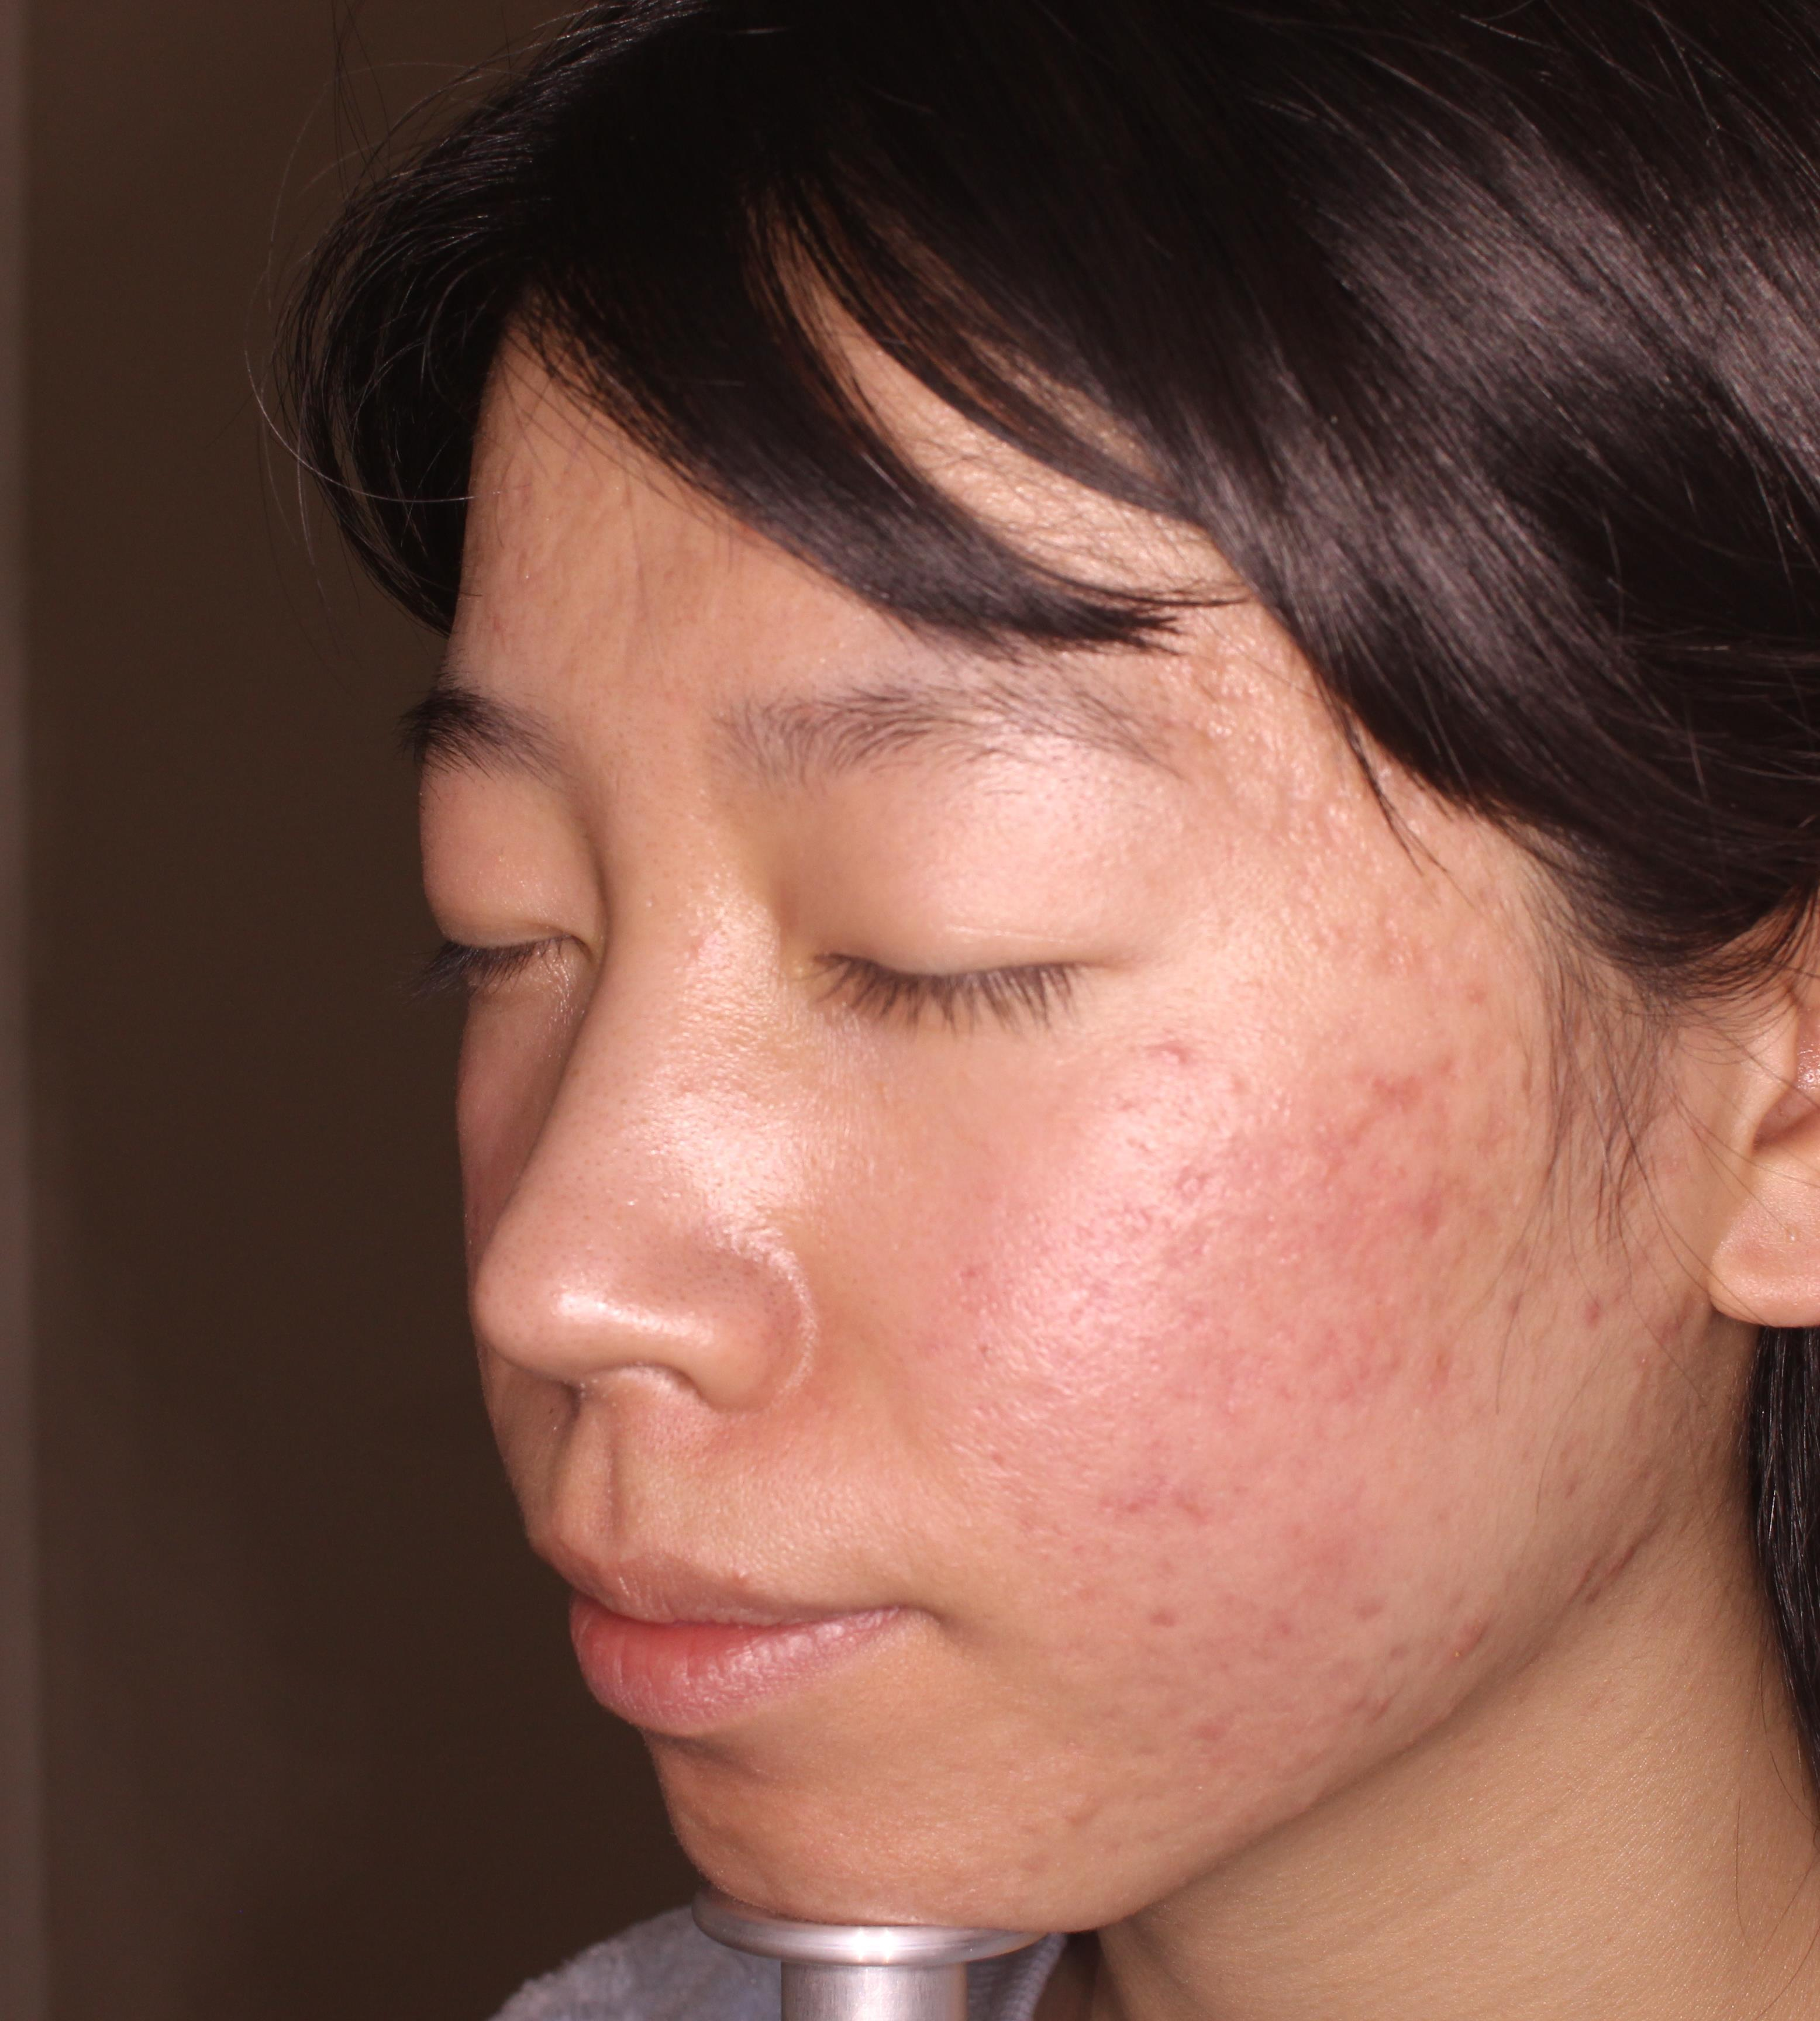fore: (1309, 1670, 1449, 1782), (1390, 1168, 1499, 1257), (1650, 1236, 1699, 1361), (1565, 1280, 1618, 1352), (1418, 1621, 1493, 1666), (1369, 1061, 1444, 1101)
